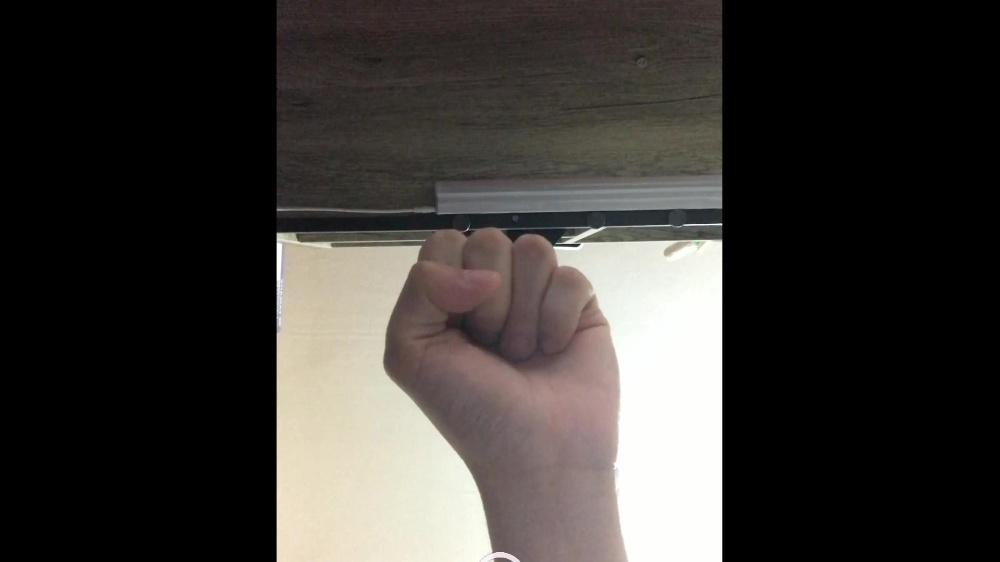s: (382, 223, 620, 462)
